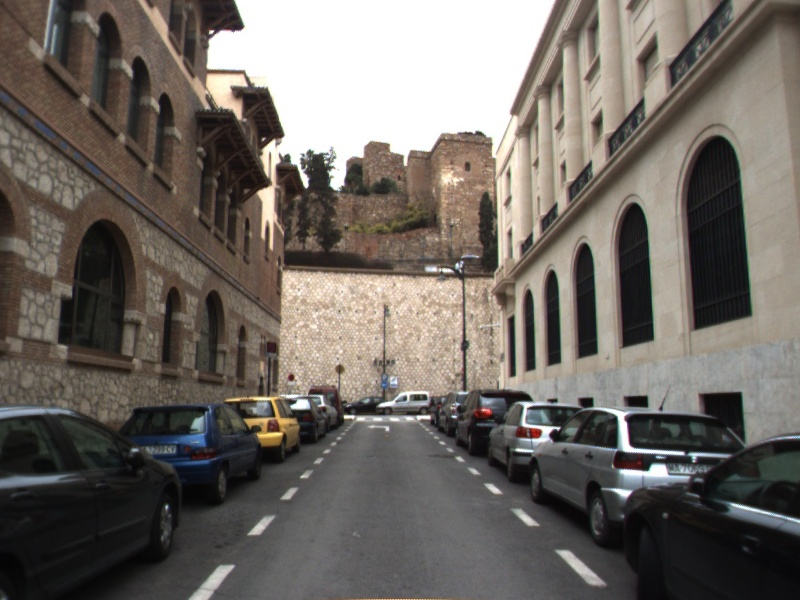LEFT: (366, 422, 391, 433)
